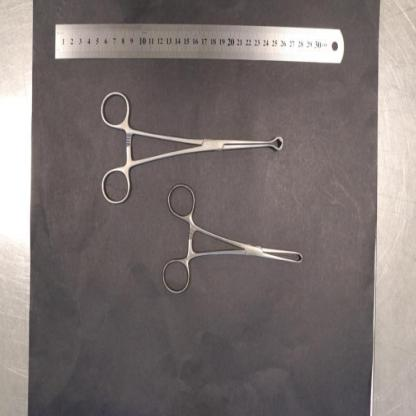8 Babcock Tissue Forceps: (99, 89, 286, 209)
Allis Tissue Forceps: (160, 181, 304, 297)
